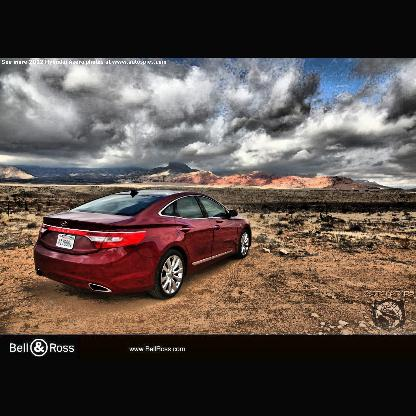Hyundai Azera Sedan 2012: (33, 180, 255, 297)
